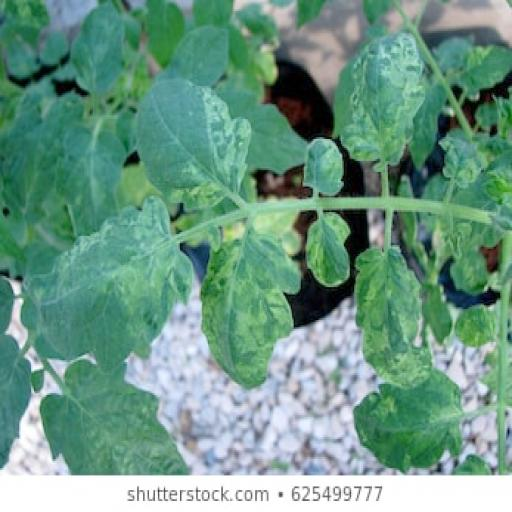Mosaic Virus: (18, 201, 192, 373), (132, 68, 252, 218), (196, 227, 302, 389), (326, 22, 425, 184), (352, 364, 464, 468), (354, 247, 436, 386), (303, 212, 351, 298), (298, 137, 342, 201)
